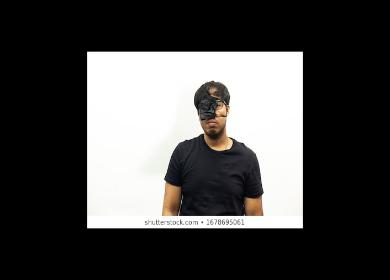mask_weared_incorrect: (200, 96, 227, 137)
